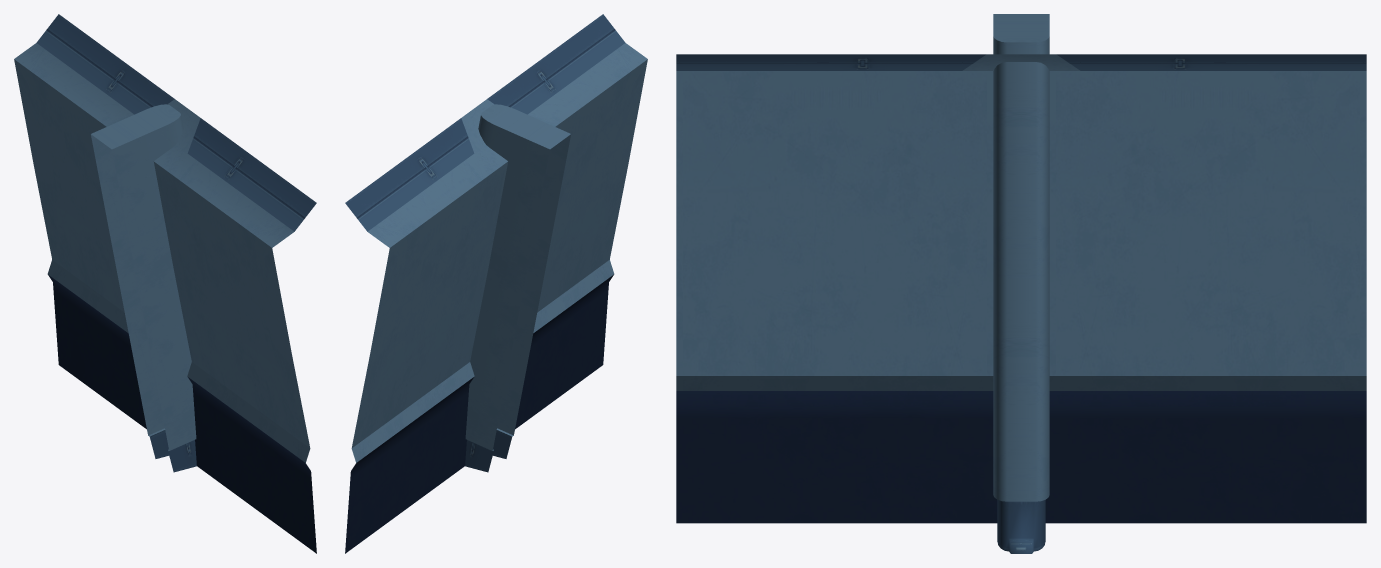
File: WallRib.gltf
3 views of the same model, side by side, from view 1: azimuth 30°, elevation 25°; view 2: azimuth 150°, elevation 25°; view 3: azimuth 270°, elevation 25° (orthographic). The views are drawn at different scales.
Parts seen in each view (by area): view 1: WallAstra_Straight; view 2: WallAstra_Straight; view 3: WallAstra_Straight.
Boxes of the visible parts, x1,y1,x2,y2 form: WallAstra_Straight: (14,14,316,553); WallAstra_Straight: (345,14,647,553); WallAstra_Straight: (676,14,1366,553).
Bounding box in the file's own units: 1.21 × 3.03 × 4.
Materials: 4 (4 with a texture image).
